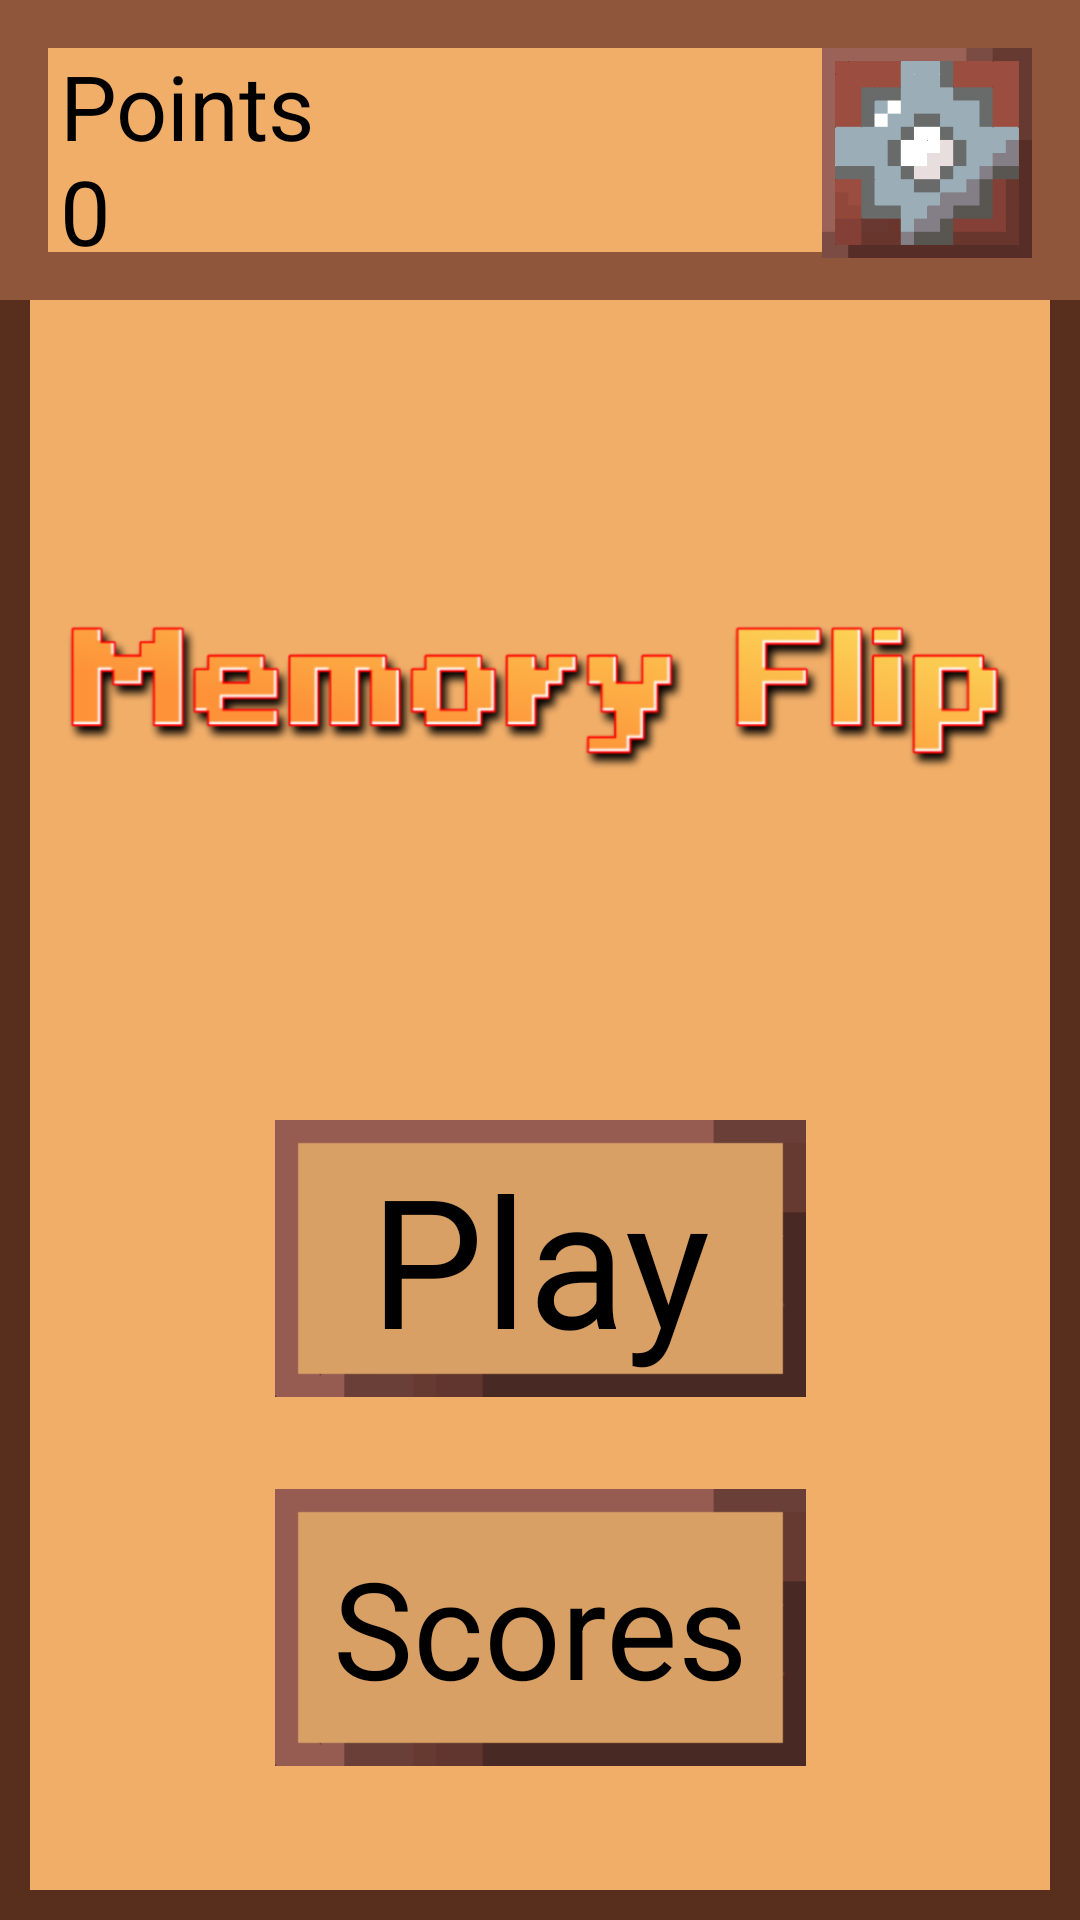

Screen size 1080px x 1920px. Icon name, then its box in pixels as (x1, y1, x2, y2):
settings: (822, 48, 1032, 258)
